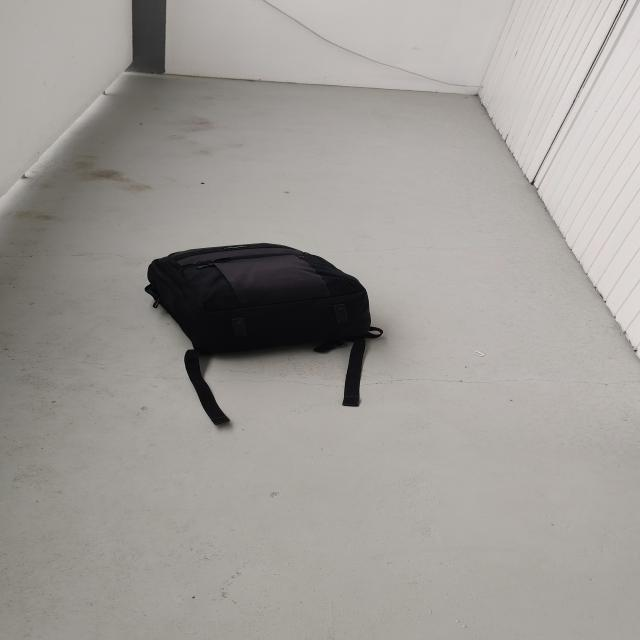backpack: (134, 238, 380, 363)
